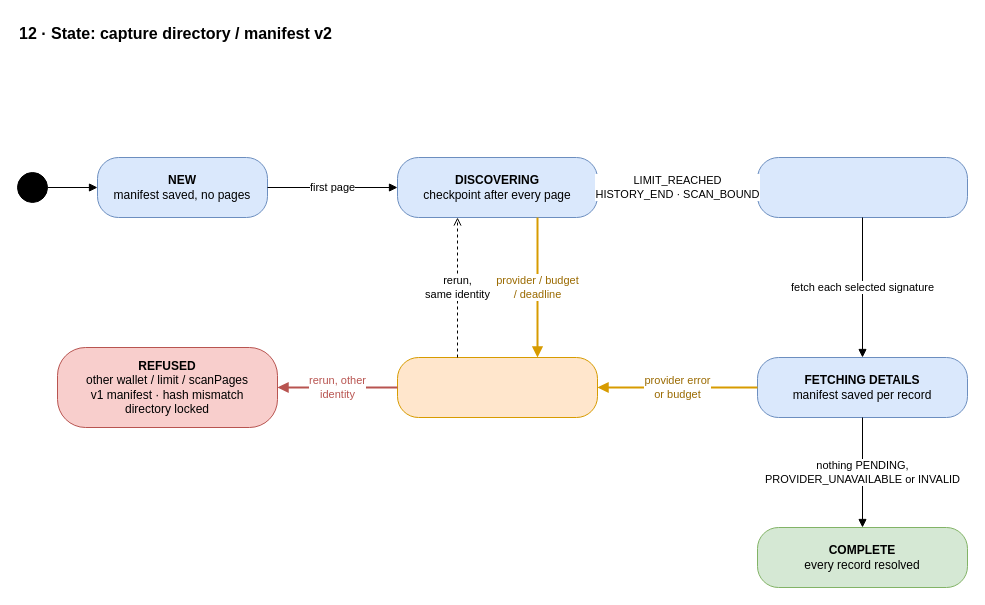
Some shapes in this 985 by 605 pixel diagram are drawn without their labels. The box of each missing label's shape, as (x1, y1, x2, y2) in pixels:
DISCOVERY COMPLETE discoveryStop set: (756, 156, 968, 218)
INCOMPLETE complete = false · resumable: (396, 356, 598, 418)
